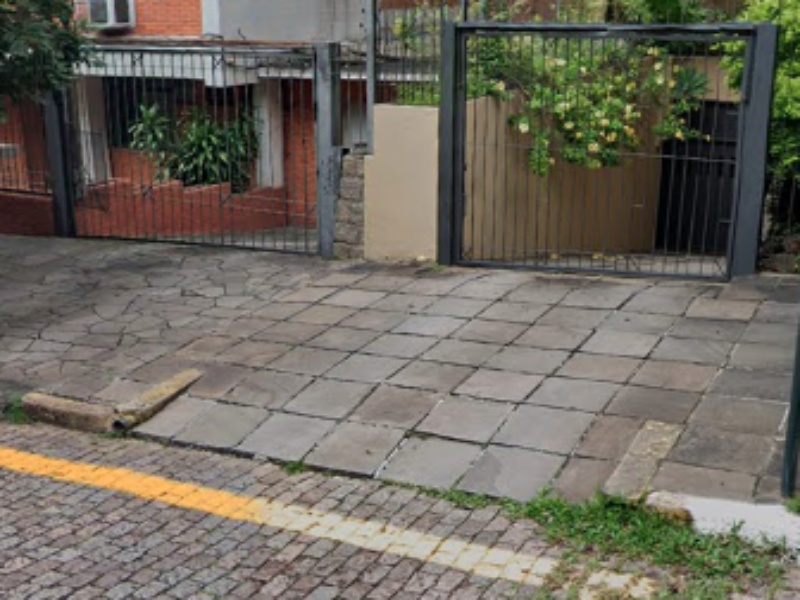g32: (131, 364, 601, 563)
